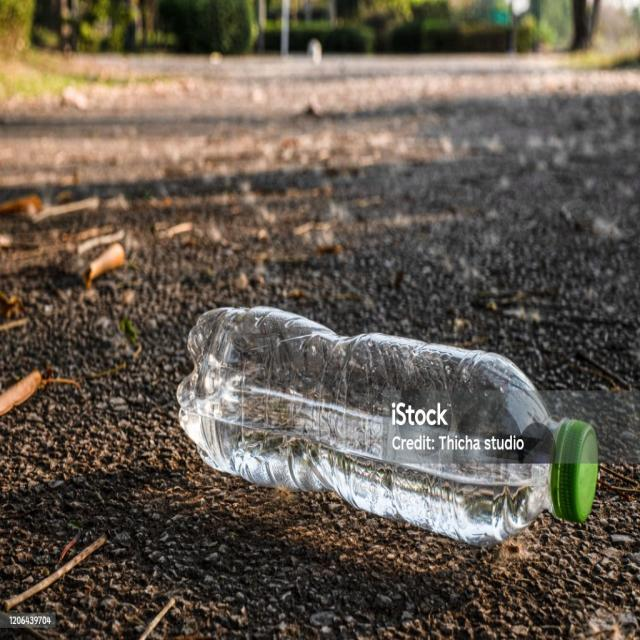bottle: (176, 302, 607, 551)
